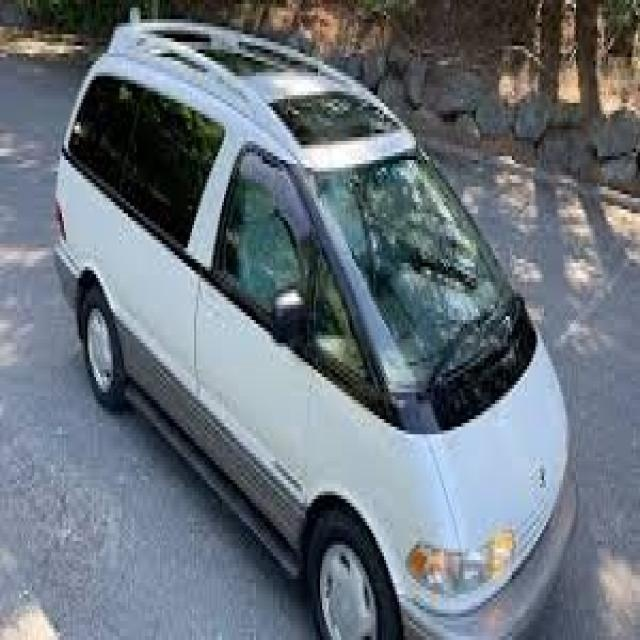Van: (53, 19, 578, 632)
